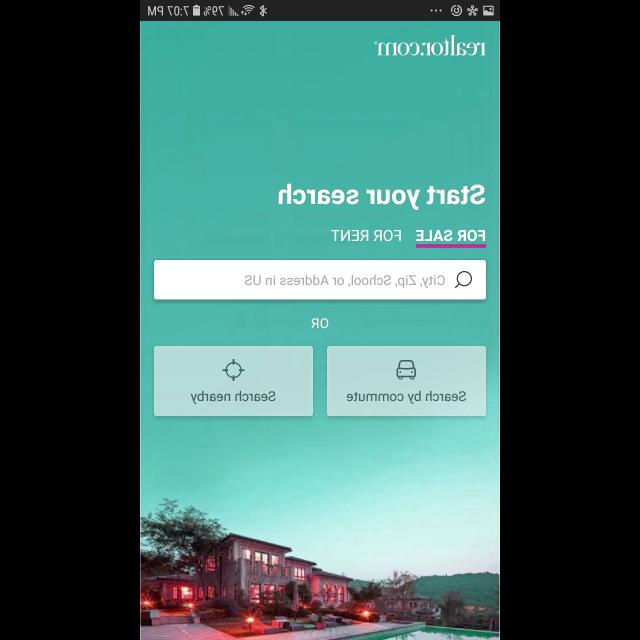backgroundimage: (140, 22, 500, 640)
icon: (454, 272, 472, 288)
input: (154, 260, 486, 300)
text: (278, 183, 486, 210), (245, 276, 445, 288), (374, 36, 486, 56), (331, 230, 401, 242), (415, 230, 485, 242), (311, 318, 329, 329)
textbutton: (326, 346, 486, 416), (154, 346, 312, 416)
uppertaskbar: (140, 1, 500, 22)
